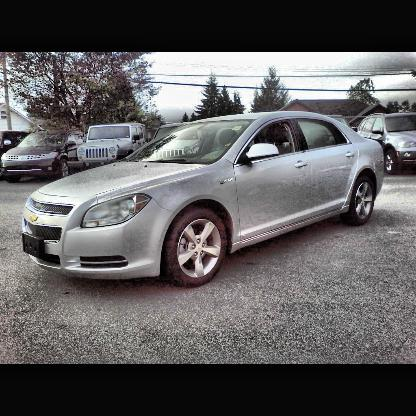Chevrolet Malibu Hybrid Sedan 2010: (20, 112, 385, 290)
